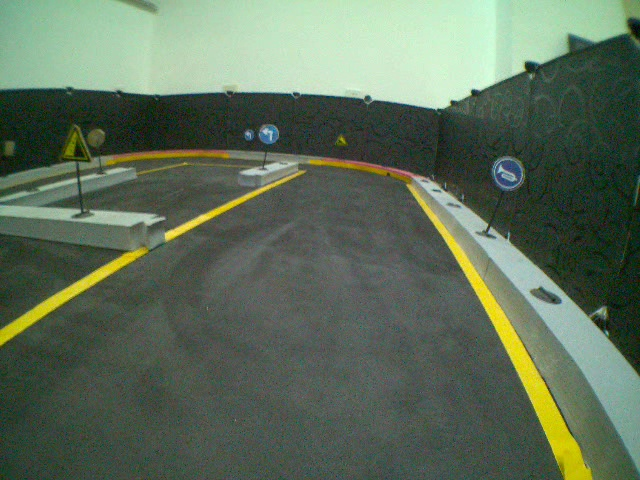fast: (56, 123, 95, 163), (331, 132, 349, 146)
horn: (489, 155, 526, 193)
turn: (257, 122, 279, 145), (244, 128, 254, 140)
